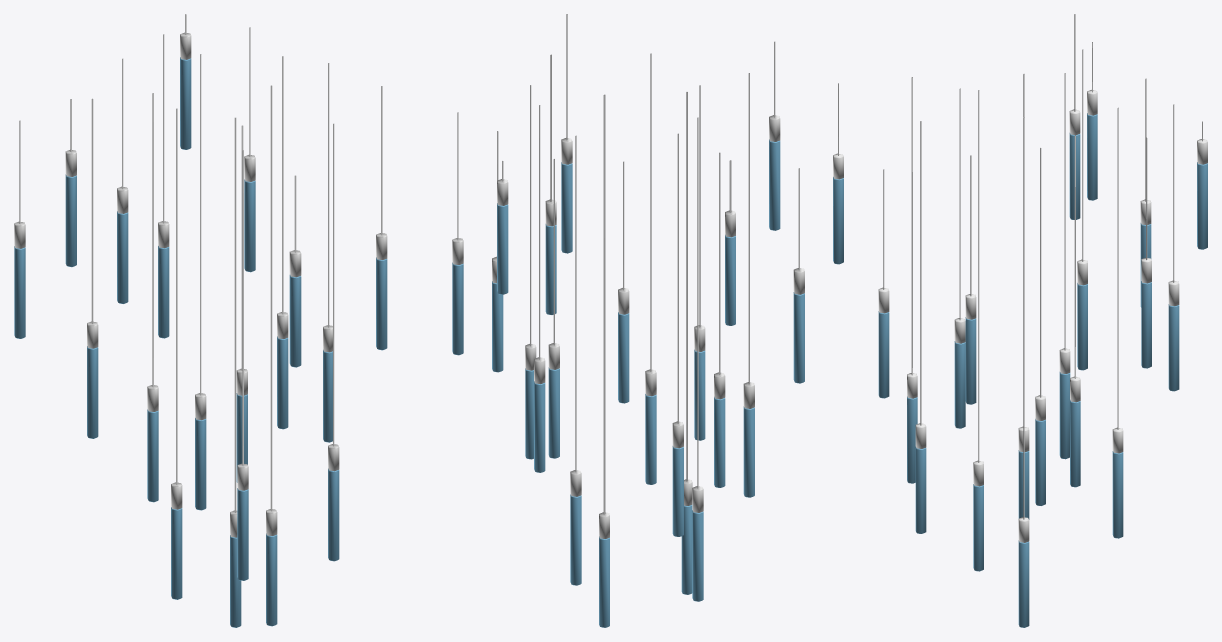
File: Light_04.fbx
3 renders of one model, left to right at view 1: azimuth 30°, elevation 25°; view 2: azimuth 150°, elevation 25°; view 3: azimuth 270°, elevation 25°, orthographic. The views are drawn at different scales.
Parts seen in each view (by area): view 1: Light_04; view 2: Light_04; view 3: Light_04.
Boxes of the visible parts, box(x1,y1,x2,y2) form: Light_04: box(14, 14, 463, 627); Light_04: box(492, 14, 804, 627); Light_04: box(833, 14, 1207, 627).
Bounding box in the file's own units: 202 × 300 × 200.
